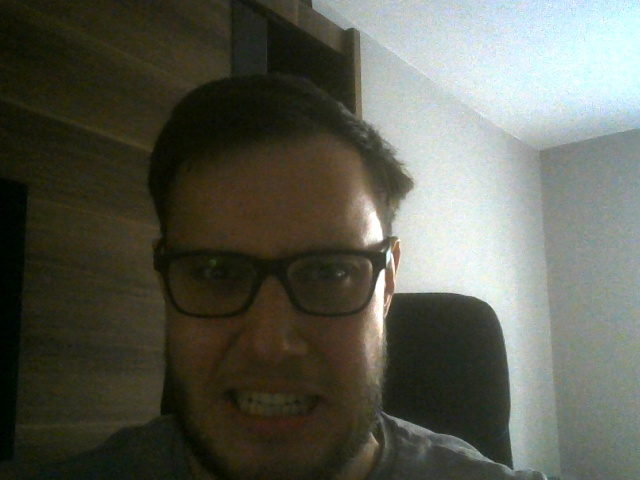angry: (151, 73, 403, 480)
